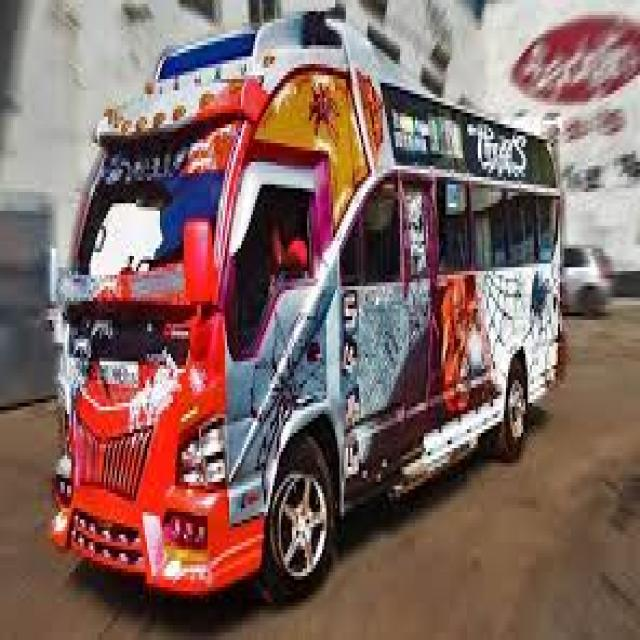bus: (61, 14, 632, 638)
